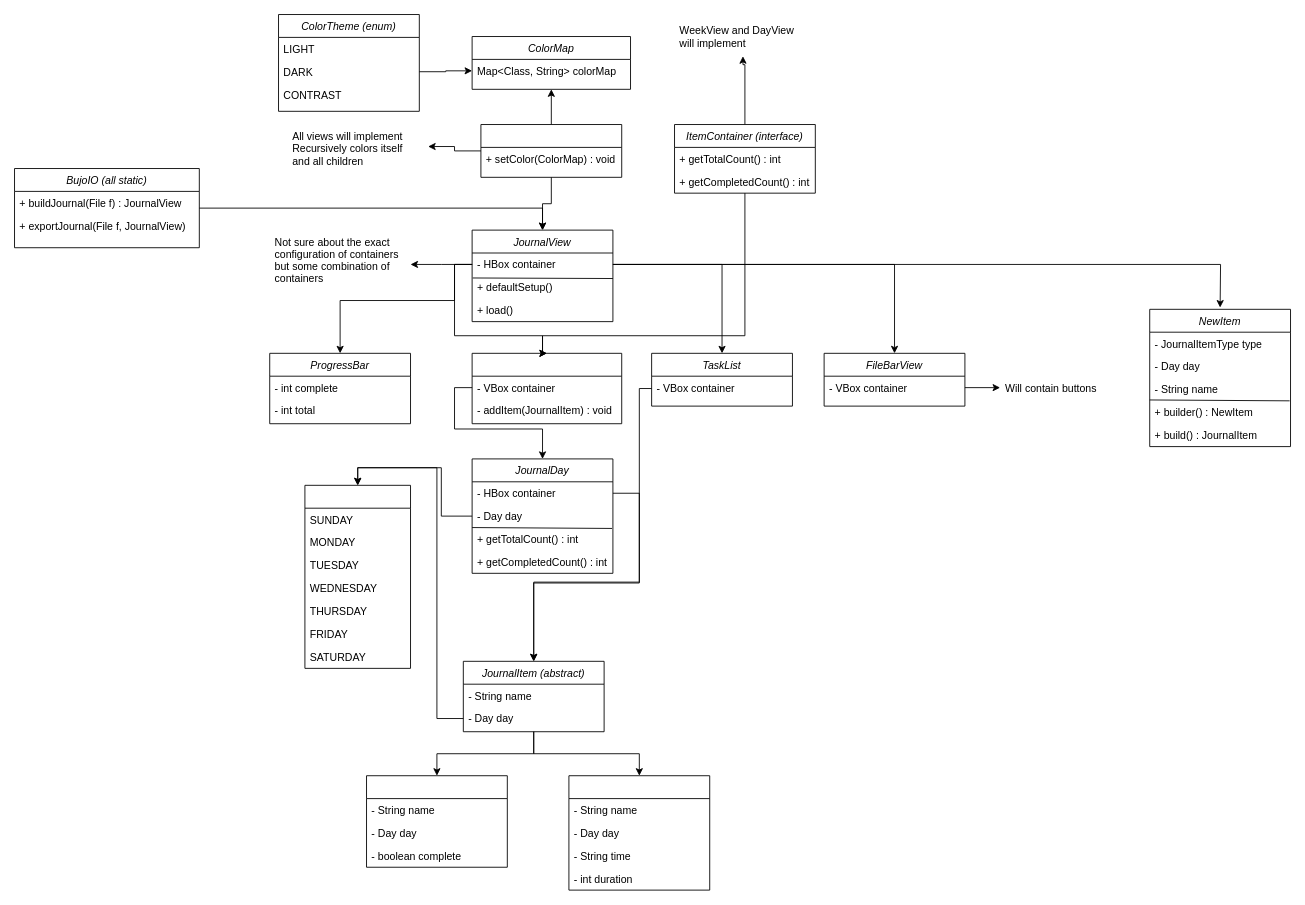
This 1305x905 diagram has some shape labels left out. The shapes that lost their labels are listed below. From the top down, each one's box as (x1, y1, x2, y2) in pixels, then its label:
(480, 124, 622, 177): Colorable (interface)
(471, 352, 622, 424): JournalWeek
(304, 484, 411, 668): Day (enum)
(366, 775, 507, 867): Task
(568, 775, 710, 890): Event
